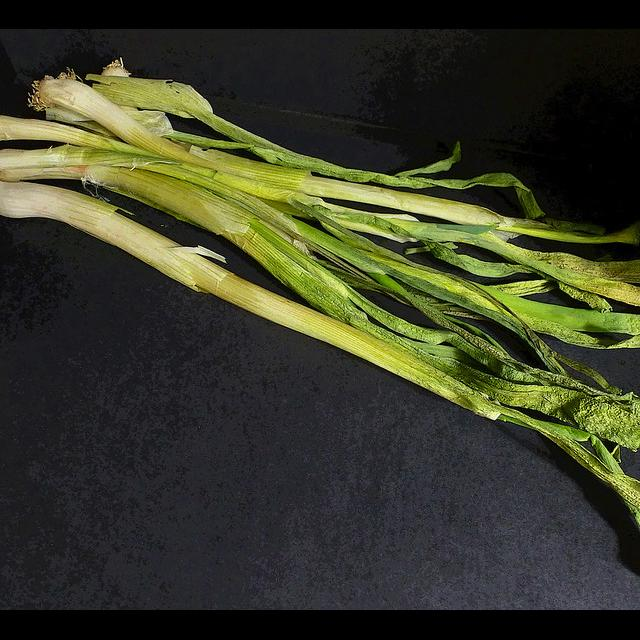green_onion: (0, 68, 640, 528)
